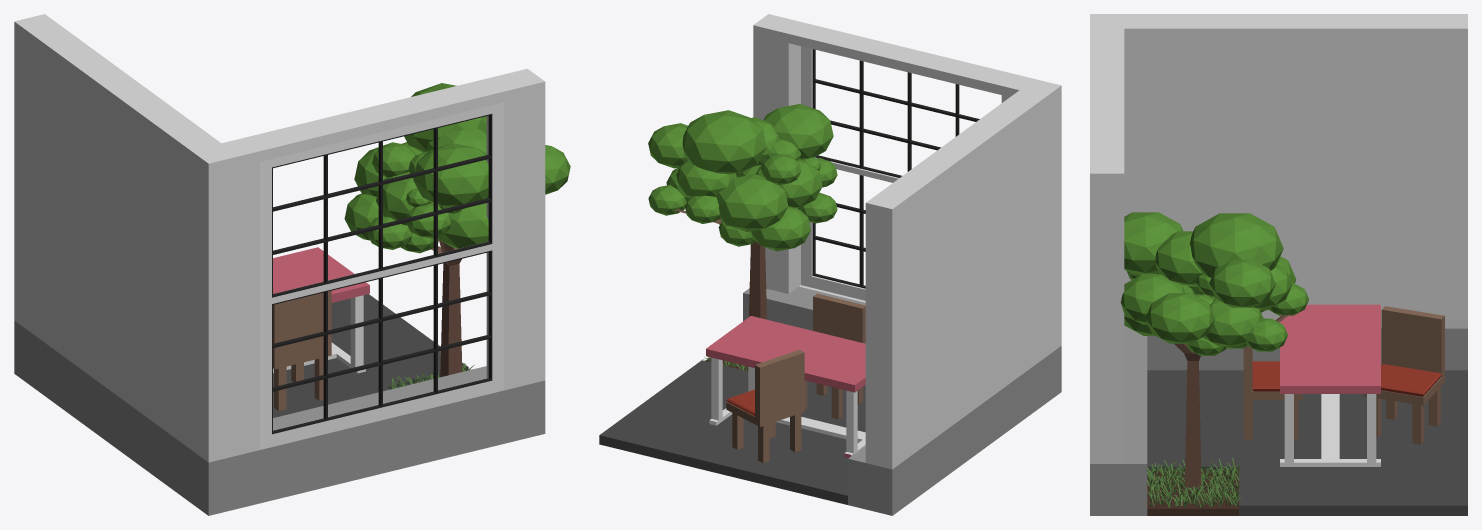
File: room7.glb
The picture shows the model from 3 angles, left to right: view 1: azimuth 30°, elevation 25°; view 2: azimuth 150°, elevation 25°; view 3: azimuth 270°, elevation 25°; orthographic projection. The views are drawn at different scales.
Visible parts, largest first — view 1: WallRight, WallLeft, WindowFrame, Floor, Chair, Desk, Icosphere.005, Low, Trunk, Icosphere.015, Icosphere.013, Icosphere.022 (+9 smaller); view 2: WallRight, Floor, Desk, WindowFrame, WallLeft, Pillar Left, Pillar Right, Chair.001, Icosphere.022, Low, Icosphere.020, Chair (+12 smaller); view 3: WallRight, Floor, Pillar Right, Desk, Low, WallLeft, Pillar Left, Chair.001, Pillar Middle, Icosphere.022, Grass, Icosphere.006 (+11 smaller).
Boxes of the visible parts, x1,y1,x2,y2 form: WallRight: [14, 19, 218, 515]; WallLeft: [213, 77, 545, 513]; WindowFrame: [259, 102, 504, 449]; Floor: [273, 294, 468, 417]; Chair: [273, 290, 331, 410]; Desk: [273, 247, 369, 373]; Icosphere.005: [413, 143, 488, 209]; Low: [273, 366, 487, 430]; Trunk: [431, 240, 462, 377]; Icosphere.015: [438, 203, 488, 248]; Icosphere.013: [376, 171, 433, 225]; Icosphere.022: [404, 83, 486, 152]; WallRight: [883, 83, 1061, 515]; Floor: [599, 357, 883, 513]; Desk: [706, 316, 865, 457]; WindowFrame: [801, 46, 979, 300]; WallLeft: [763, 14, 1051, 302]; Pillar Left: [753, 18, 798, 293]; Pillar Right: [865, 188, 903, 467]; Chair.001: [726, 350, 804, 463]; Icosphere.022: [682, 110, 766, 174]; Low: [743, 286, 883, 504]; Icosphere.020: [717, 174, 788, 231]; Chair: [804, 293, 865, 419]; WallRight: [1090, 14, 1467, 309]; Floor: [1101, 370, 1467, 515]; Pillar Right: [1422, 19, 1467, 318]; Desk: [1280, 304, 1380, 466]; Low: [1101, 309, 1467, 505]; WallLeft: [1090, 19, 1124, 515]; Pillar Left: [1101, 154, 1124, 463]; Chair.001: [1363, 306, 1444, 444]; Pillar Middle: [1101, 19, 1147, 284]; Icosphere.022: [1189, 213, 1283, 277]; Grass: [1147, 457, 1242, 507]; Icosphere.006: [1145, 293, 1215, 343].
Size of what is drawn, in the model's own units: 3.74 by 3.12 by 3.12.
